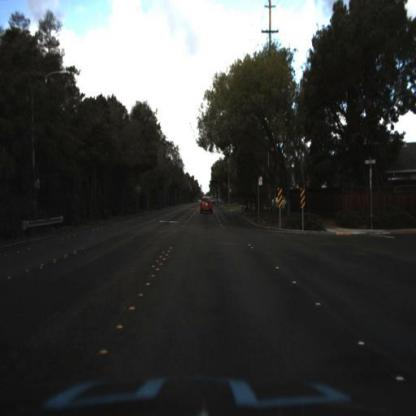car: (199, 192, 217, 221)
